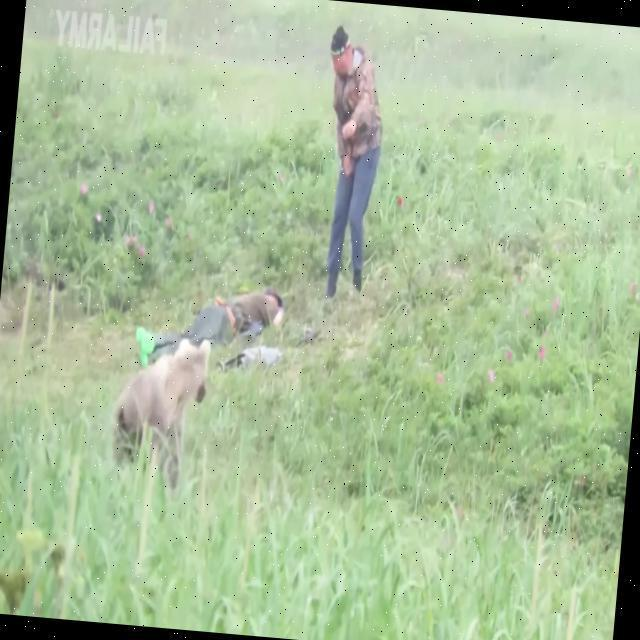person: (308, 26, 392, 306), (134, 277, 286, 372)
